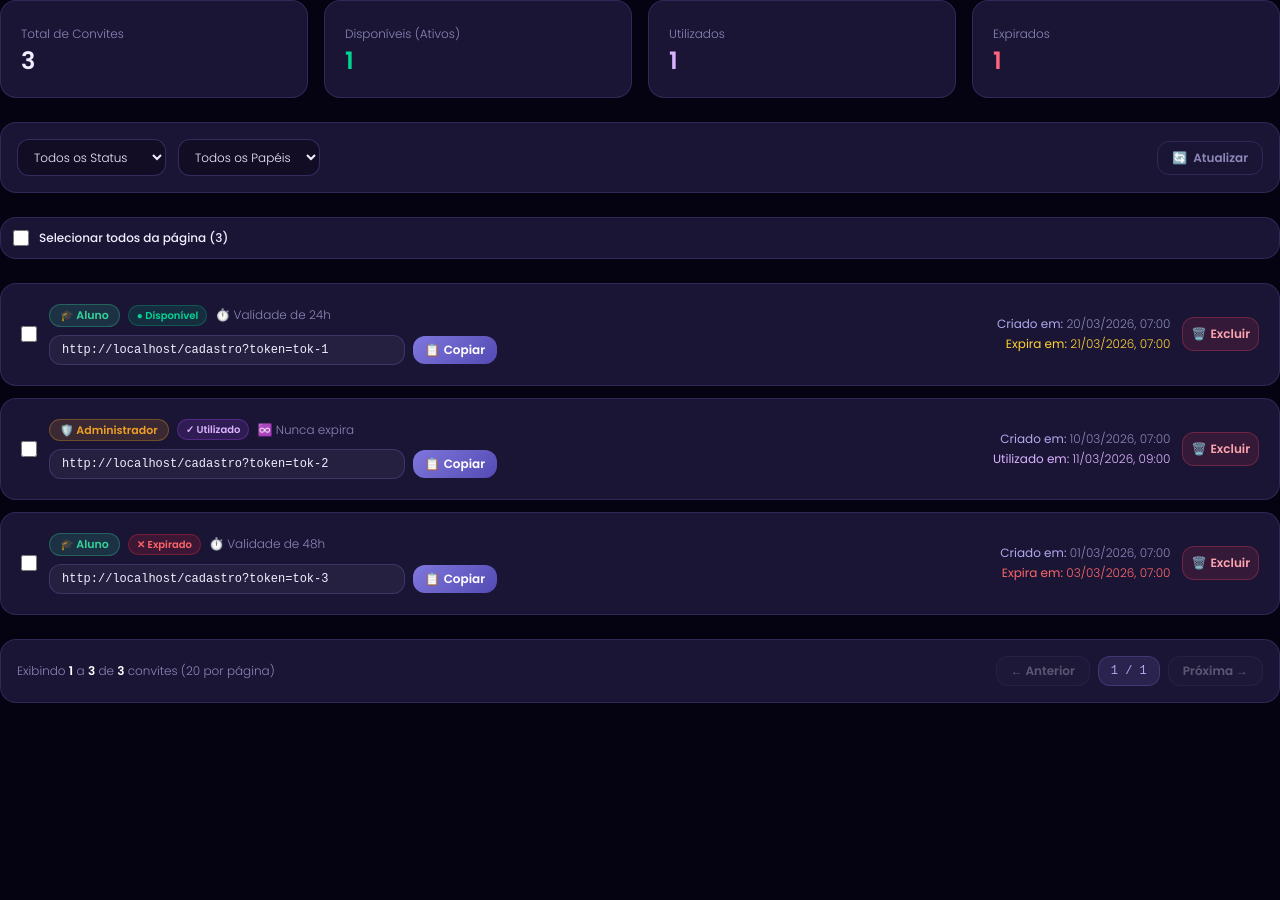
ListaConvites Component › permite filtrar convites por status localmente
The width and height of the screenshot is (1280, 900).
Select "Disponível (Ativo)" in the dropdown with test id "status-filter-select": (92,158) x1=17 y1=139 x2=166 y2=176
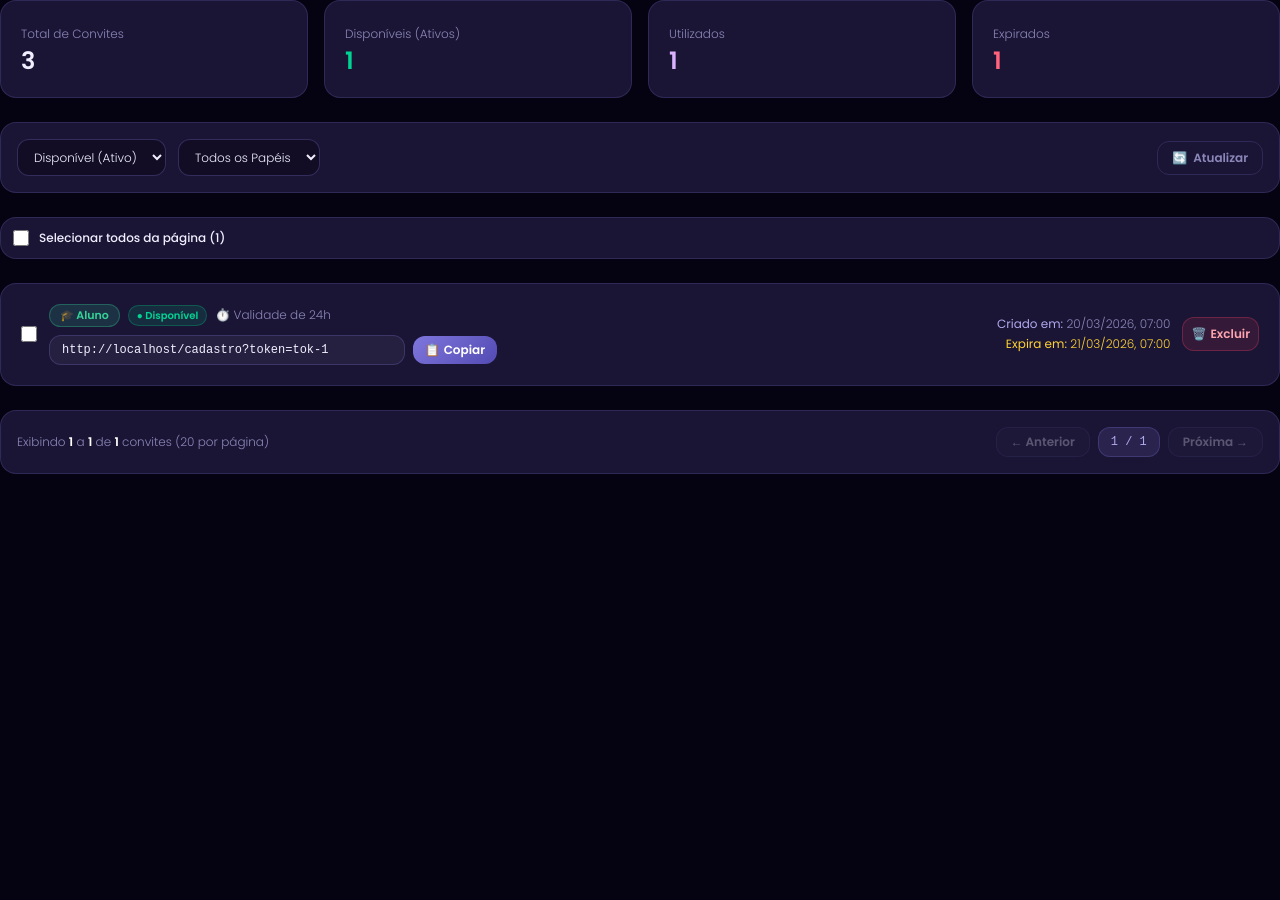
Check: the text "● Disponível" is shown, box x1=128 y1=305 x2=207 y2=326
Check: the text "✓ Utilizado" is gone
Check: the text "✕ Expirado" is gone
